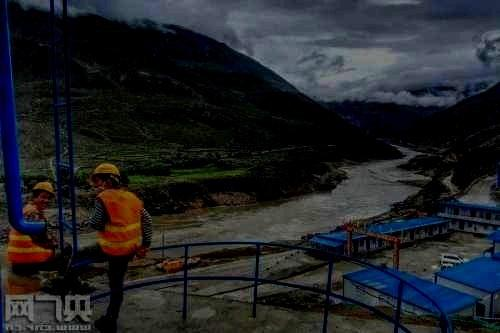helmet: (91, 163, 121, 193), (31, 181, 56, 210)
